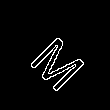M_NE: (21, 21, 89, 89)
